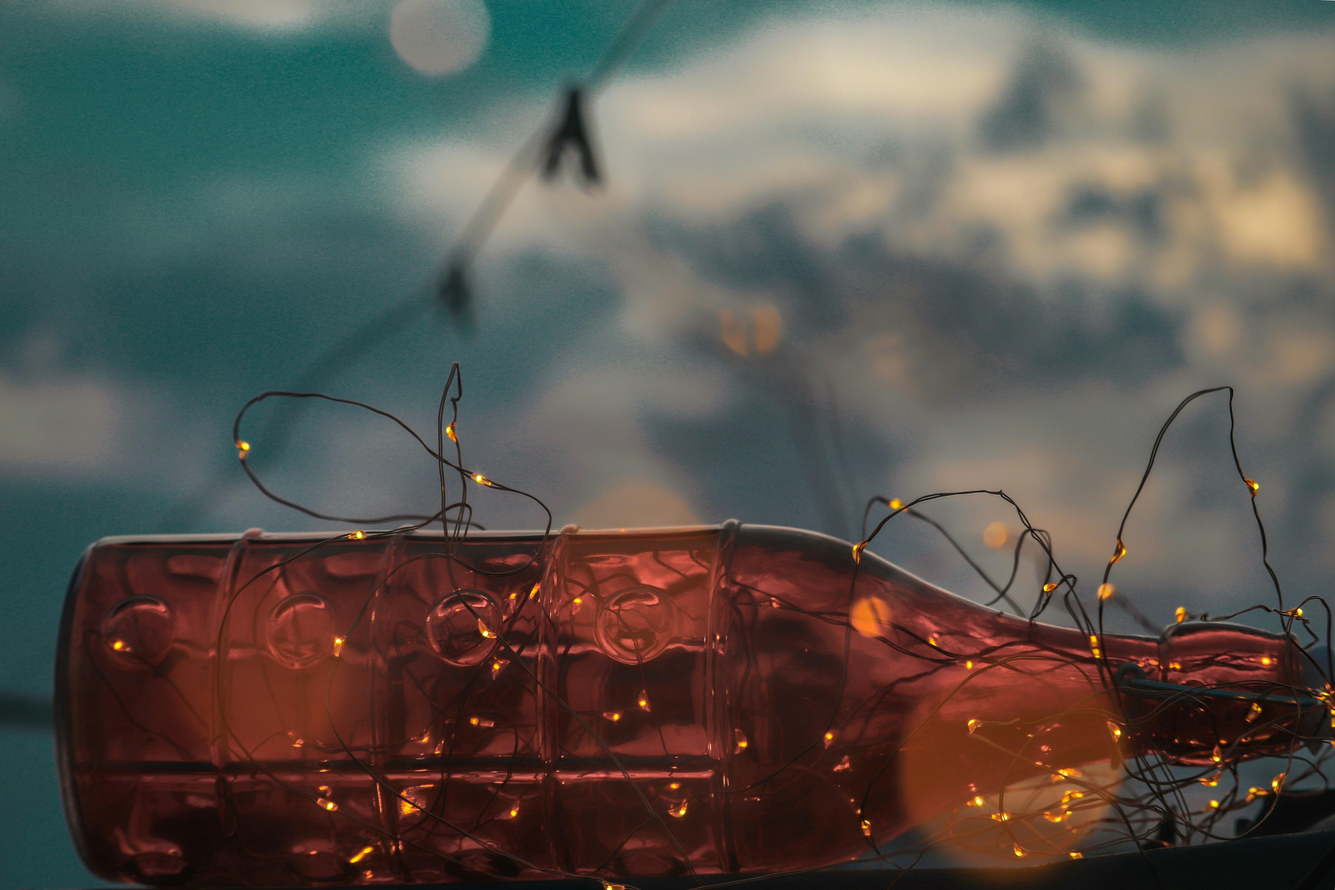Bottle-Detection: (19, 465, 1334, 882)
